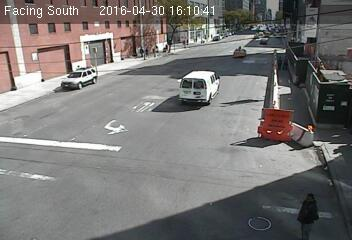neg: (15, 80, 49, 125), (77, 105, 108, 146), (192, 98, 222, 137), (108, 59, 135, 95), (186, 169, 209, 200), (224, 51, 245, 78), (130, 161, 150, 186), (257, 168, 276, 194), (58, 41, 77, 66), (245, 122, 263, 146), (279, 96, 296, 120), (70, 159, 87, 182), (259, 46, 275, 68), (176, 54, 187, 68)
pos: (292, 193, 323, 235)
